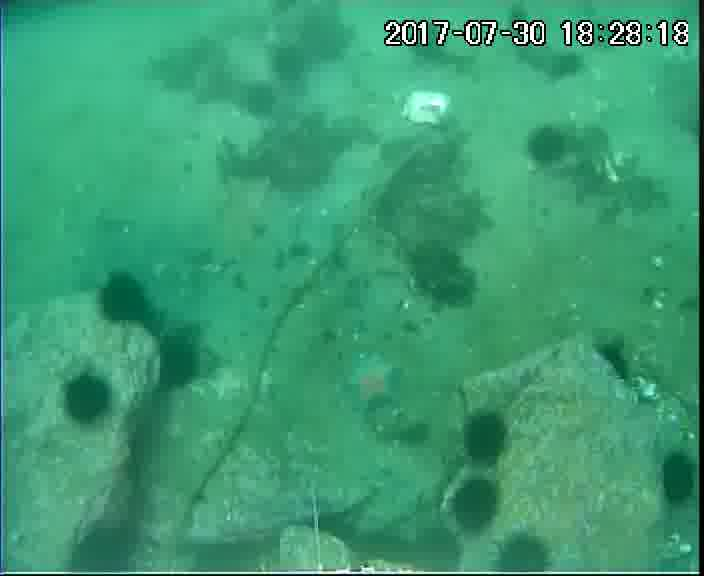echinus: (408, 237, 482, 310), (97, 270, 154, 330), (491, 528, 556, 576), (459, 405, 510, 465), (450, 478, 501, 536), (157, 331, 202, 396), (61, 372, 112, 424), (661, 450, 703, 510), (525, 123, 568, 169), (242, 77, 282, 123), (268, 41, 307, 84), (595, 339, 635, 380)
starfish: (342, 349, 407, 416)
